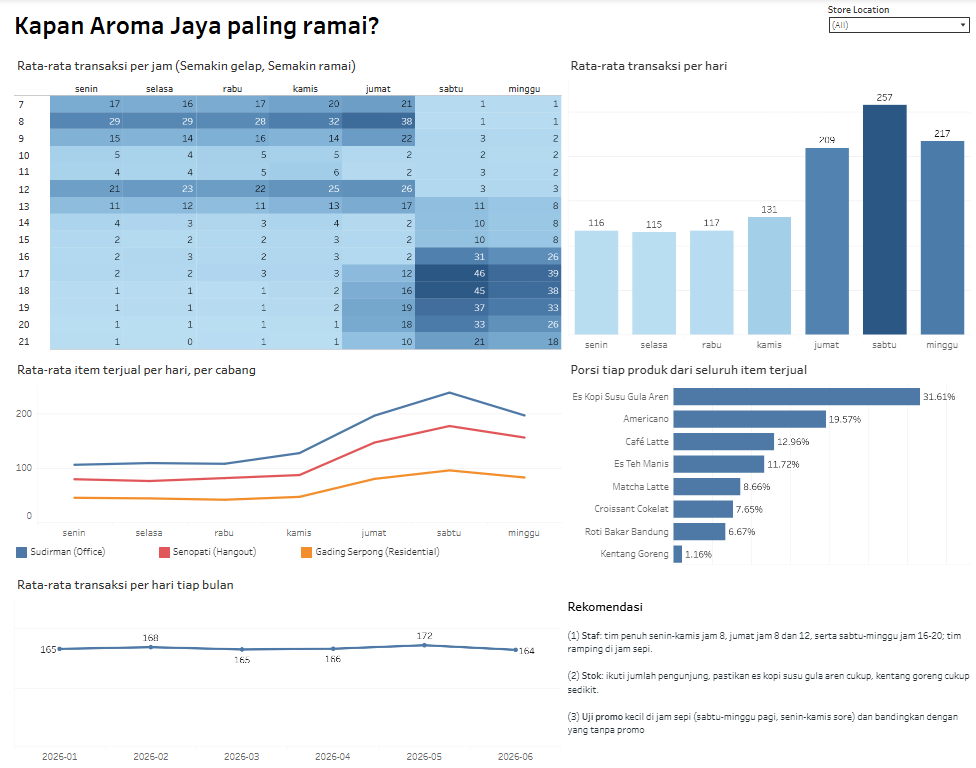

The dashboard page shown, as its layout file describes it:
{"tool":"tableau","page":{"name":"Dashboard 1","canvas":[1300,1100],"ordinal":0},"visuals":[{"type":"text","box":[8,8,1085,65.2]},{"type":"filter","title":"Produk","param":"[federated.0dg60ci0nuc7nl1g0inxg1jh79ti].[none:store_location:nk]","box":[1093,8,199,65.2]},{"type":"worksheet","title":"Peta jam x hari","mark":"Square","rows":["hour"],"cols":["day_num"],"box":[8,73.2,738,405.8]},{"type":"worksheet","title":"Hari","mark":"Bar","rows":["Calculation_407575819288141825"],"cols":["day_num"],"box":[746,73.2,546,405.8]},{"type":"worksheet","title":"Cabang","mark":"Line","rows":["Calculation_407575819290324994"],"cols":["day_num"],"box":[8,479,738,251.4]},{"type":"worksheet","title":"Produk","mark":"Automatic","rows":["product_name"],"cols":["quantity"],"box":[746,479,546,286]},{"type":"legend","title":"Cabang","param":"[federated.0dg60ci0nuc7nl1g0inxg1jh79ti].[none:store_location:nk]","box":[8,730.4,738,34.6]},{"type":"worksheet","title":"Tren bulanan","mark":"Line","rows":["Calculation_407575819291815939"],"cols":["month"],"box":[8,765,738,264]},{"type":"text","box":[746,765,546,264]},{"type":"text","box":[8,1029,1284,63]}]}

Visuals, with their boxes on the page's 1300x1100 design canvas (x1, y1, x2, y2). These are canvas units, not pixel positions in the 976x768 screenshot, which may show the page scaled, cropped or inside an application window:
text: 8 8 1093 73
"Produk" filter: 1093 8 1292 73
"Peta jam x hari" worksheet (Square marks): 8 73 746 479
"Hari" worksheet (Bar marks): 746 73 1292 479
"Cabang" worksheet (Line marks): 8 479 746 730
"Produk" worksheet: 746 479 1292 765
"Cabang" legend: 8 730 746 765
"Tren bulanan" worksheet (Line marks): 8 765 746 1029
text: 746 765 1292 1029
text: 8 1029 1292 1092
